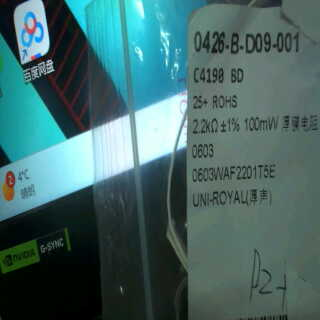2.2kR: (185, 115, 221, 135)
